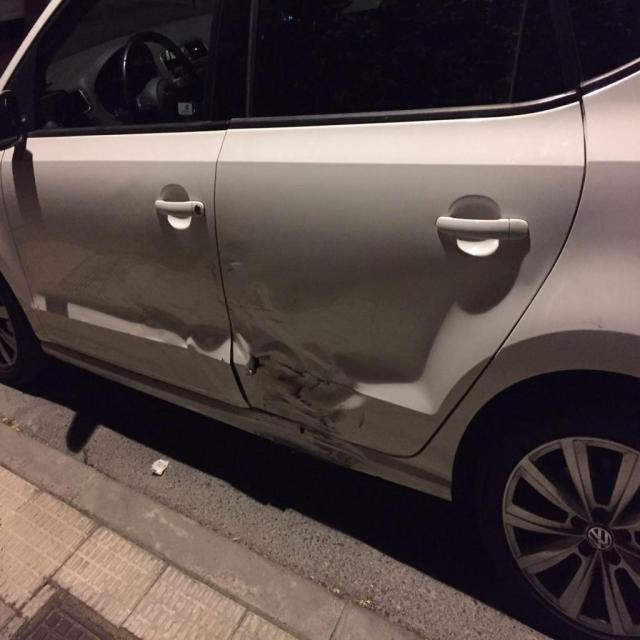Damage: (26, 218, 368, 478)
